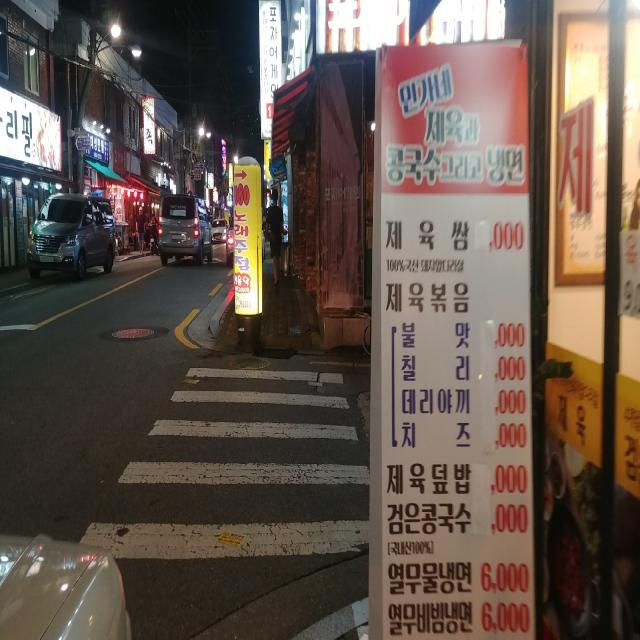횡단보도: (78, 368, 370, 558)
